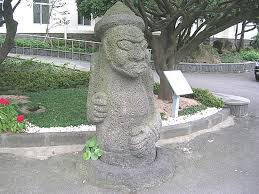Stone Statue: (70, 1, 183, 194)
